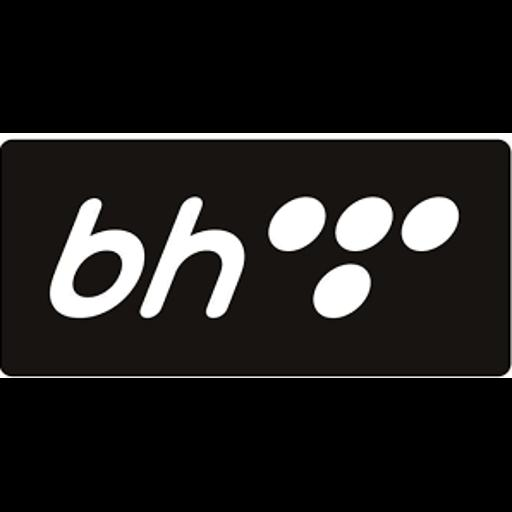BH Telecom: (0, 133, 512, 378)
